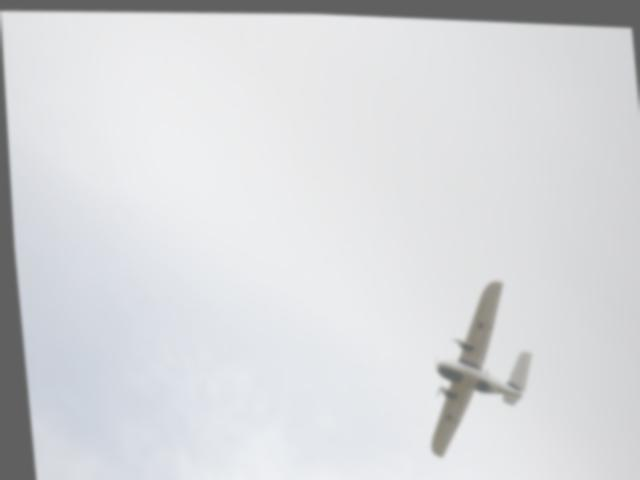plane: (410, 272, 540, 458)
